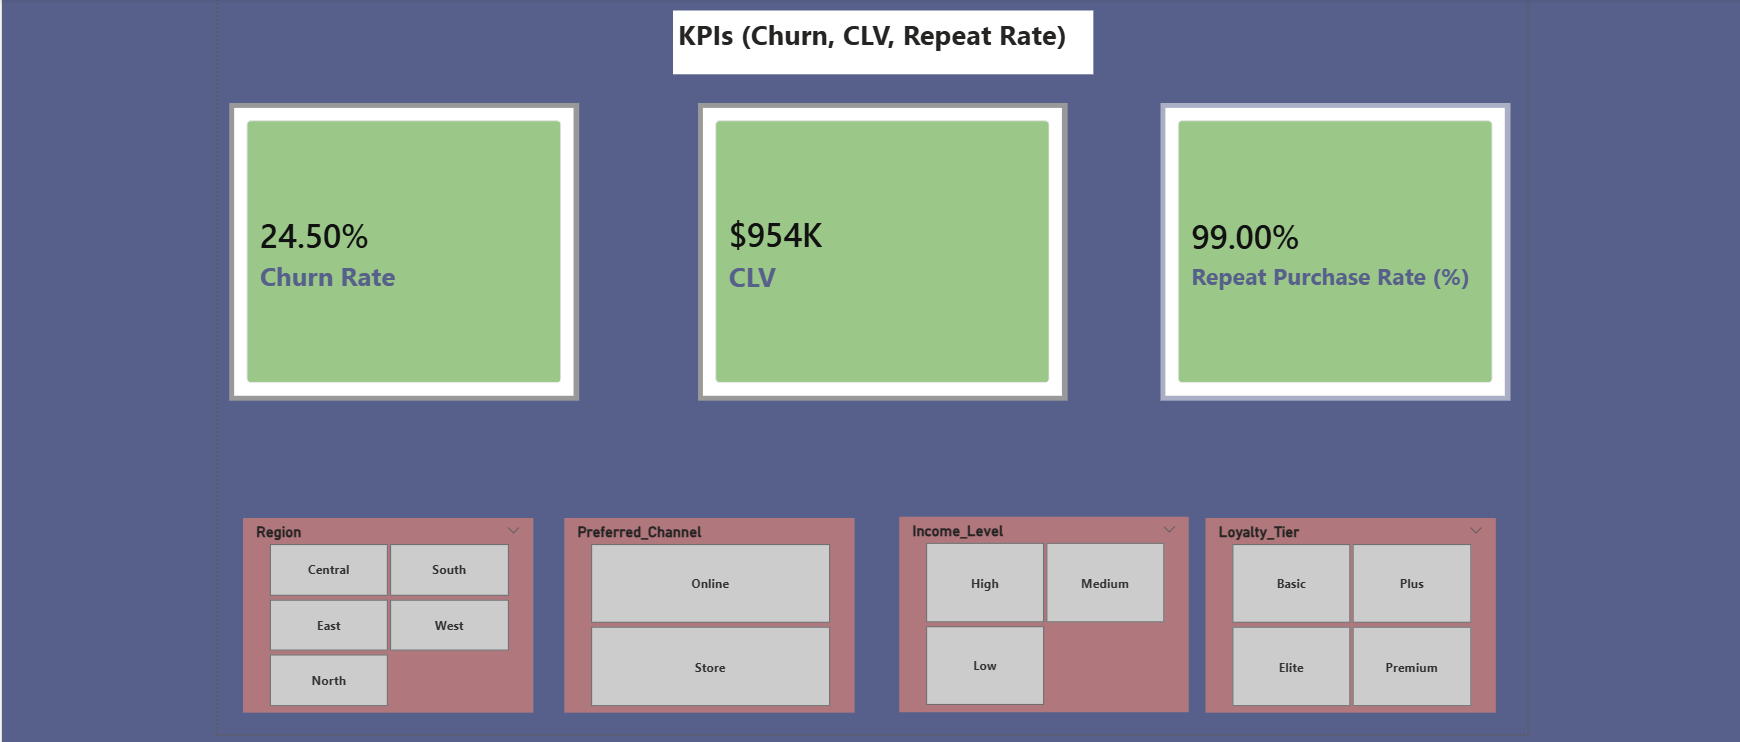

The page's visual inventory and layout, read from the dashboard file:
{"tool":"powerbi","page":{"name":" KPIs (Churn, CLV, Repeat Rate)","canvas":[1280,720],"ordinal":5},"visuals":[{"type":"cardVisual","fields":{"Data":["measures .Churn Rate"]},"box":[11,102.7,342.4,291],"z":0},{"type":"cardVisual","fields":{"Data":["measures .CLV"]},"box":[469.6,102.7,362,291],"z":1000},{"type":"cardVisual","fields":{"Data":["measures .Repeat Purchase Rate (%)"]},"box":[922,102.7,342.4,291],"z":2000},{"type":"slicer","fields":{"Values":["Customer_Demographics.Region"]},"box":[24.5,508.7,283.7,190.8],"z":3000},{"type":"slicer","fields":{"Values":["Customer_Demographics.Preferred_Channel"]},"box":[338.7,508.7,283.7,190.8],"z":4000},{"type":"slicer","fields":{"Values":["Customer_Demographics.Income_Level"]},"box":[665.8,508.1,283.2,191.3],"z":5000},{"type":"slicer","fields":{"Values":["Loyalty_Program.Loyalty_Tier"]},"box":[966,508.7,283.7,190.8],"z":6000},{"type":"textbox","box":[445.1,12.2,410.9,62.4],"z":7000}]}

Visuals, with their boxes on the page's 1280x720 design canvas (x1, y1, x2, y2). These are canvas units, not pixel positions in the 1740x742 screenshot, which may show the page scaled, cropped or inside an application window:
cardVisual - measures .Churn Rate: box(11, 103, 353, 394)
cardVisual - measures .CLV: box(470, 103, 832, 394)
cardVisual - measures .Repeat Purchase Rate (%): box(922, 103, 1264, 394)
slicer - Customer_Demographics.Region: box(24, 509, 308, 700)
slicer - Customer_Demographics.Preferred_Channel: box(339, 509, 622, 700)
slicer - Customer_Demographics.Income_Level: box(666, 508, 949, 699)
slicer - Loyalty_Program.Loyalty_Tier: box(966, 509, 1250, 700)
textbox: box(445, 12, 856, 75)
